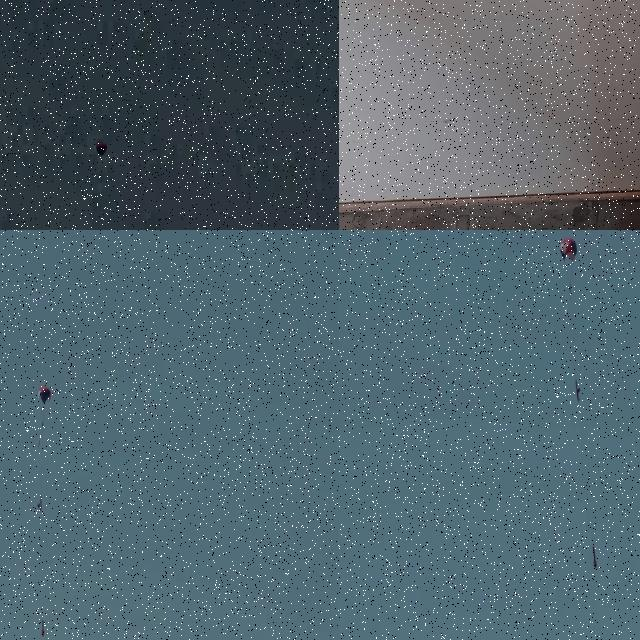Rocket: (593, 547, 597, 568), (42, 620, 44, 636)
